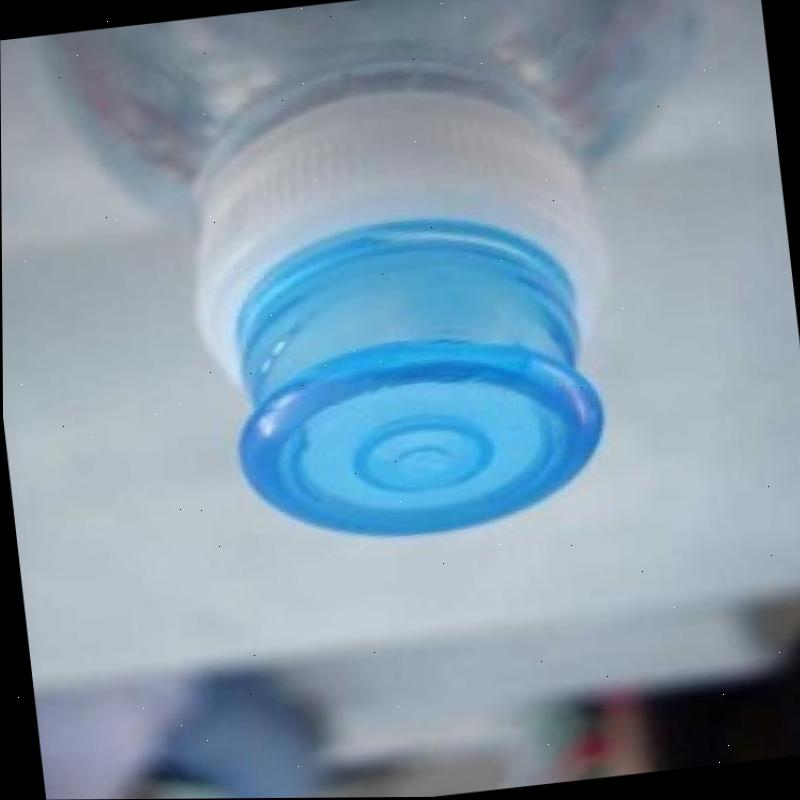botella: (41, 0, 756, 573)
